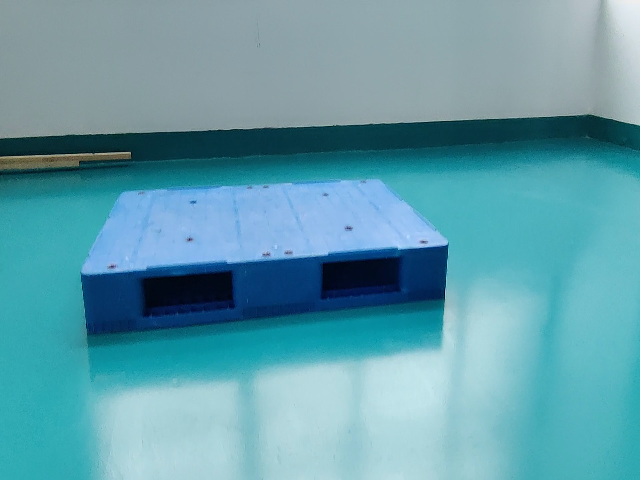block: (231, 254, 320, 321), (82, 271, 145, 334)
